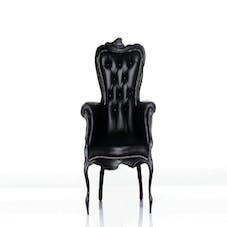chair: (50, 24, 182, 223)
